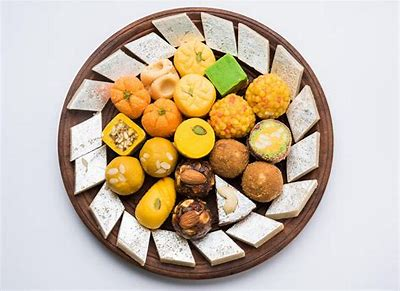inorganic: (131, 173, 224, 251), (94, 180, 155, 274), (65, 113, 119, 177), (211, 198, 275, 247), (104, 30, 172, 75), (205, 170, 256, 223), (150, 223, 205, 271), (283, 123, 331, 178), (206, 90, 259, 139), (238, 154, 288, 203), (99, 108, 148, 157), (285, 76, 323, 139), (265, 174, 319, 217), (249, 113, 295, 163), (235, 17, 273, 74), (173, 73, 220, 118), (198, 9, 239, 60), (137, 128, 178, 178), (244, 71, 292, 111), (265, 46, 303, 93), (172, 113, 217, 152), (151, 9, 194, 48), (110, 76, 153, 115), (139, 100, 186, 134), (64, 66, 105, 103), (142, 57, 179, 98), (106, 157, 146, 194), (210, 139, 250, 176), (176, 40, 212, 80), (172, 158, 212, 189), (205, 55, 242, 86)
organic: (49, 10, 349, 278)
